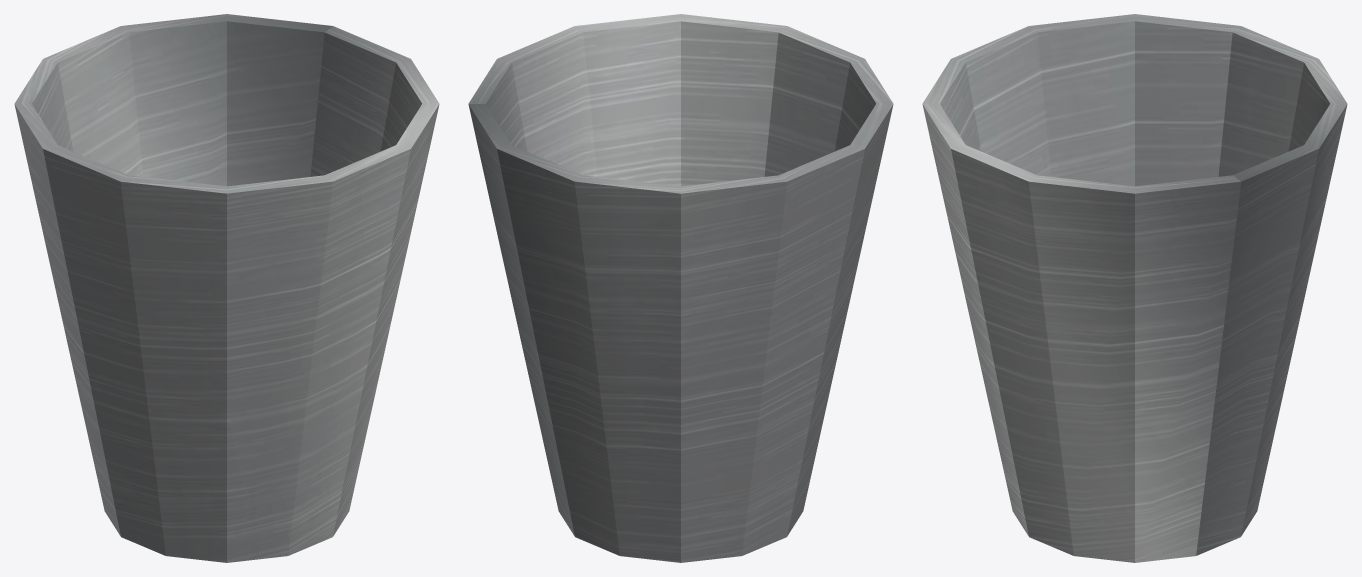
File: cup.fbx
The picture shows the model from 3 angles, left to right: view 1: azimuth 30°, elevation 25°; view 2: azimuth 150°, elevation 25°; view 3: azimuth 270°, elevation 25°; orthographic projection.
Visible parts, largest first — view 1: pCylinder1; view 2: pCylinder1; view 3: pCylinder1.
Boxes of the visible parts, left/top/right/bottom form: pCylinder1: left=14, top=14, right=439, bottom=562; pCylinder1: left=468, top=14, right=893, bottom=562; pCylinder1: left=922, top=14, right=1347, bottom=562.
Bounding box in the file's own units: 10.24 × 10.83 × 10.24.
1 material, 1 textured.
